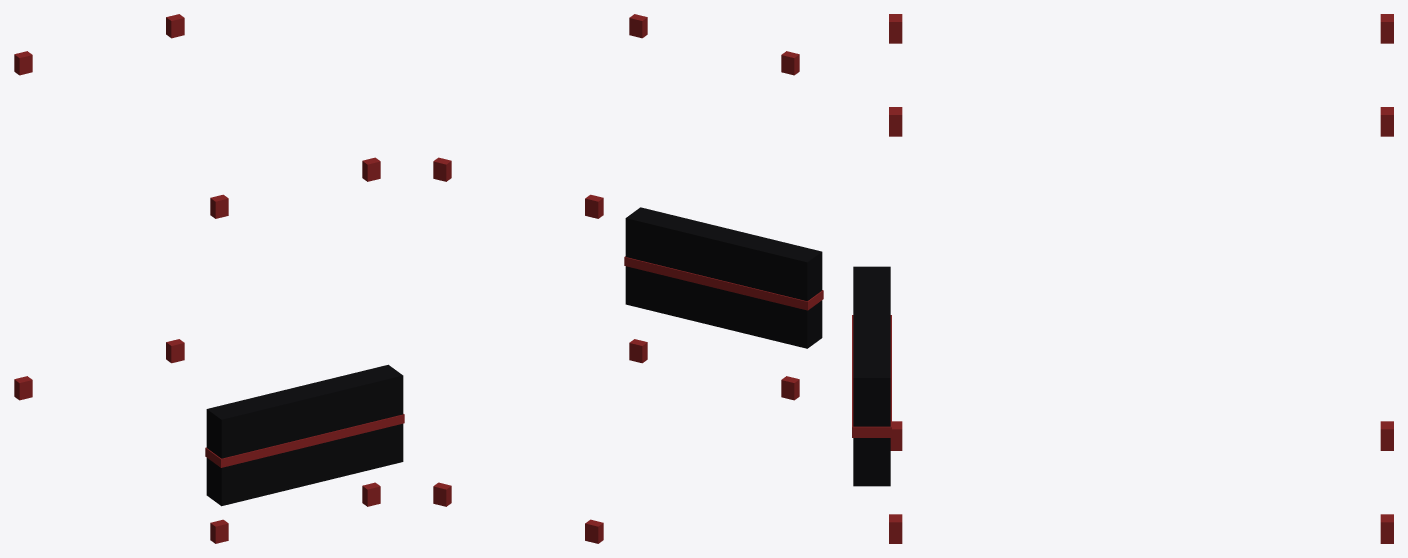
File: z5_seal.obj
The picture shows the model from 3 angles, left to right: view 1: azimuth 30°, elevation 25°; view 2: azimuth 150°, elevation 25°; view 3: azimuth 270°, elevation 25°; orthographic projection. The views are drawn at different scales.
Visible parts, largest first — view 1: z5_seal; view 2: z5_seal; view 3: z5_seal.
Boxes of the visible parts, x1,y1,x2,y2 form: z5_seal: (14, 14, 404, 543); z5_seal: (433, 14, 823, 543); z5_seal: (852, 14, 1393, 543).
Size of the model in its own units: 1.11 by 1.98 by 2.27.
